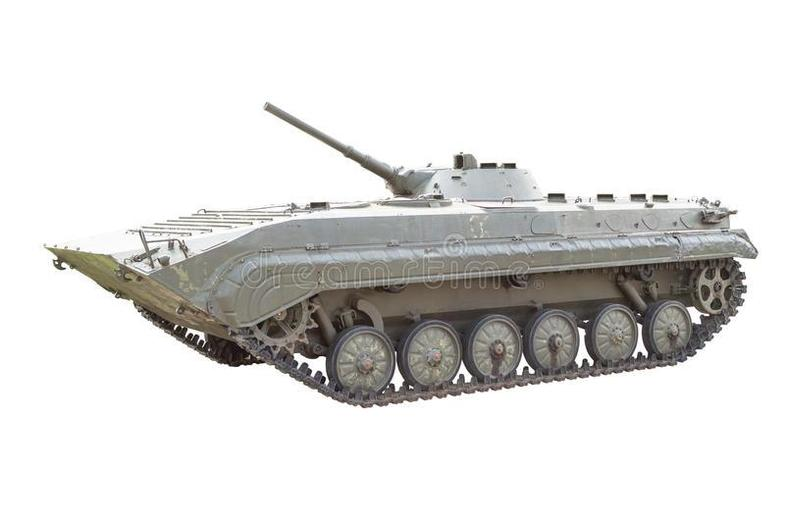bmp: (39, 137, 751, 406)
